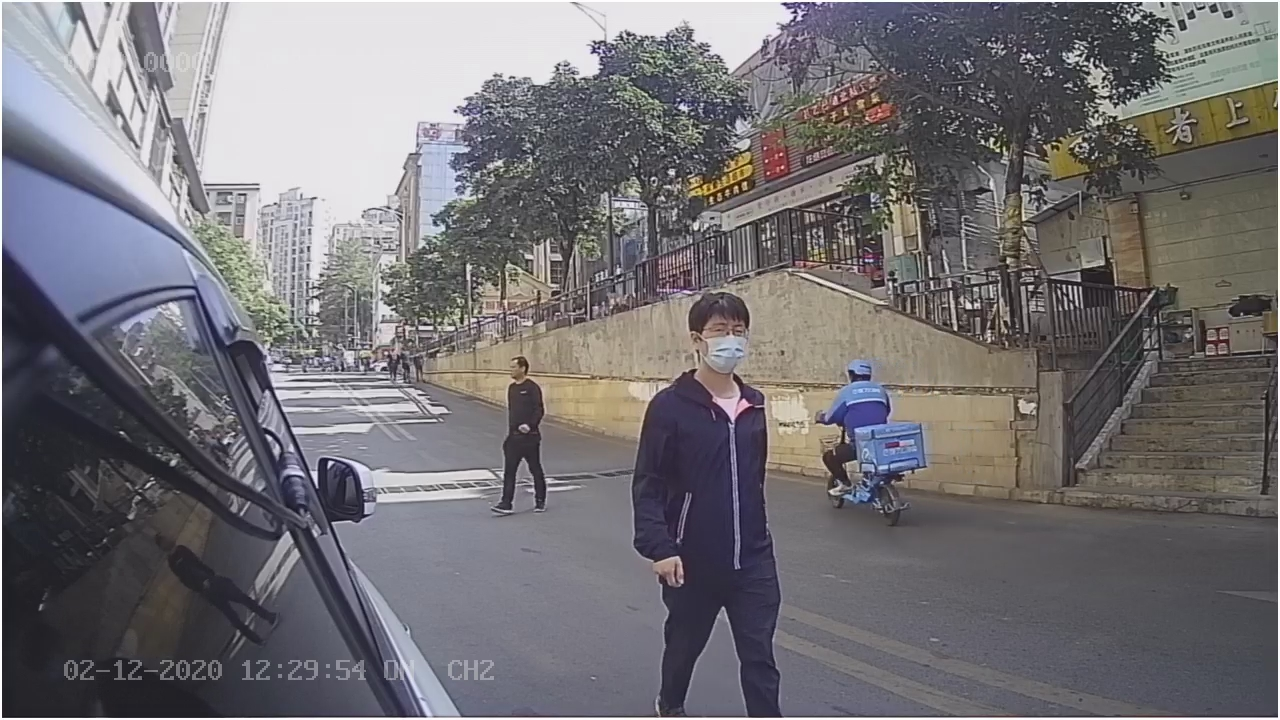person: (630, 291, 818, 595), (474, 352, 564, 524)
